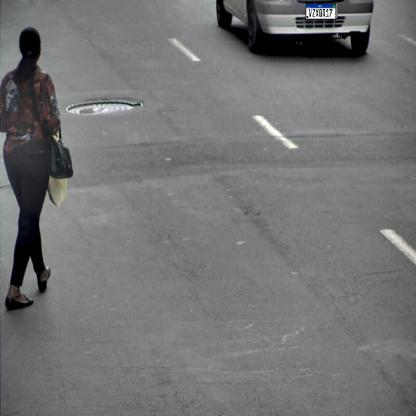PlacaM: (306, 3, 336, 20)
